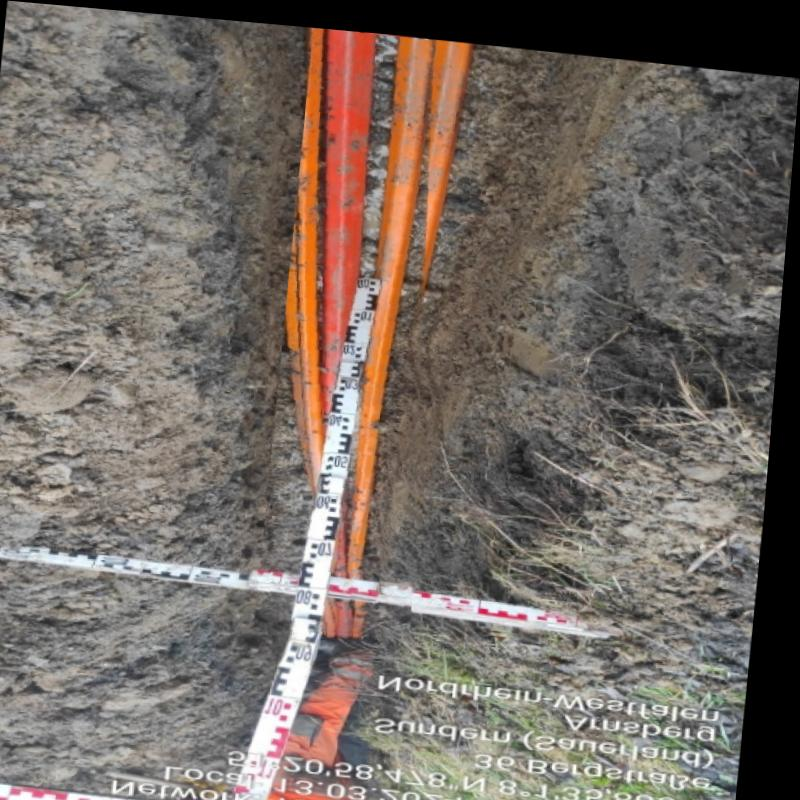Orang-Speednetrohrchen: (293, 22, 441, 625)
